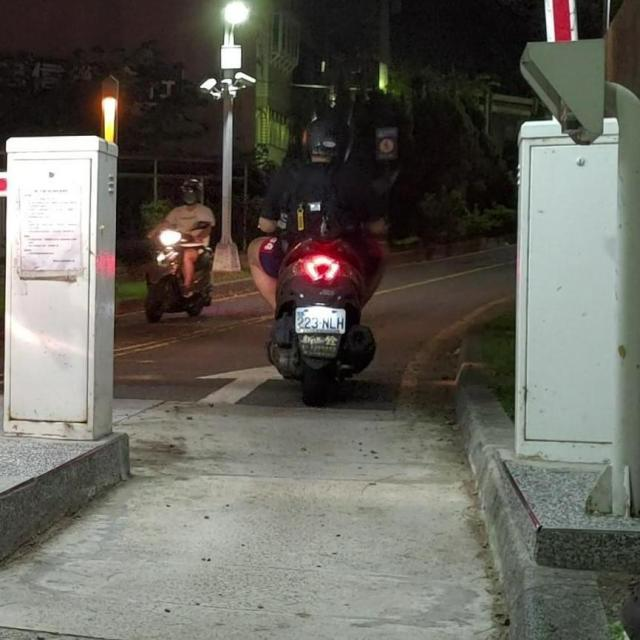W: (291, 300, 350, 338)
